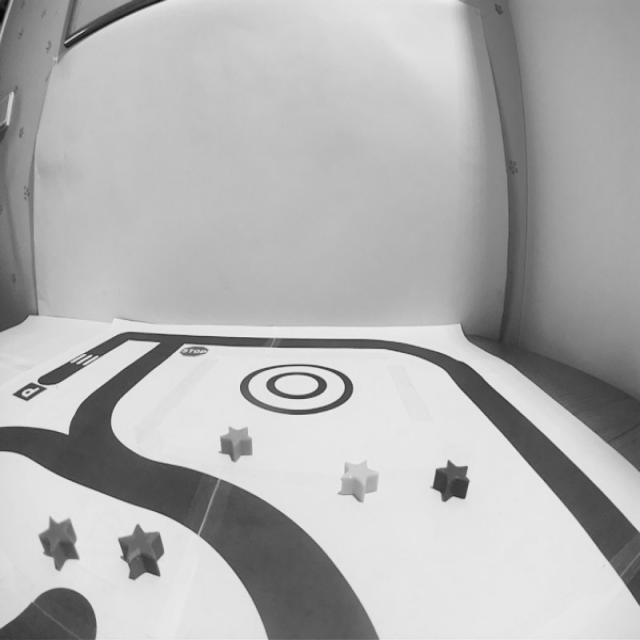cockade: (238, 357, 356, 418)
laneLeftTurn: (153, 460, 386, 640)
star: (116, 522, 166, 583), (36, 512, 82, 574), (429, 455, 474, 505), (336, 456, 383, 502), (217, 421, 255, 466)
